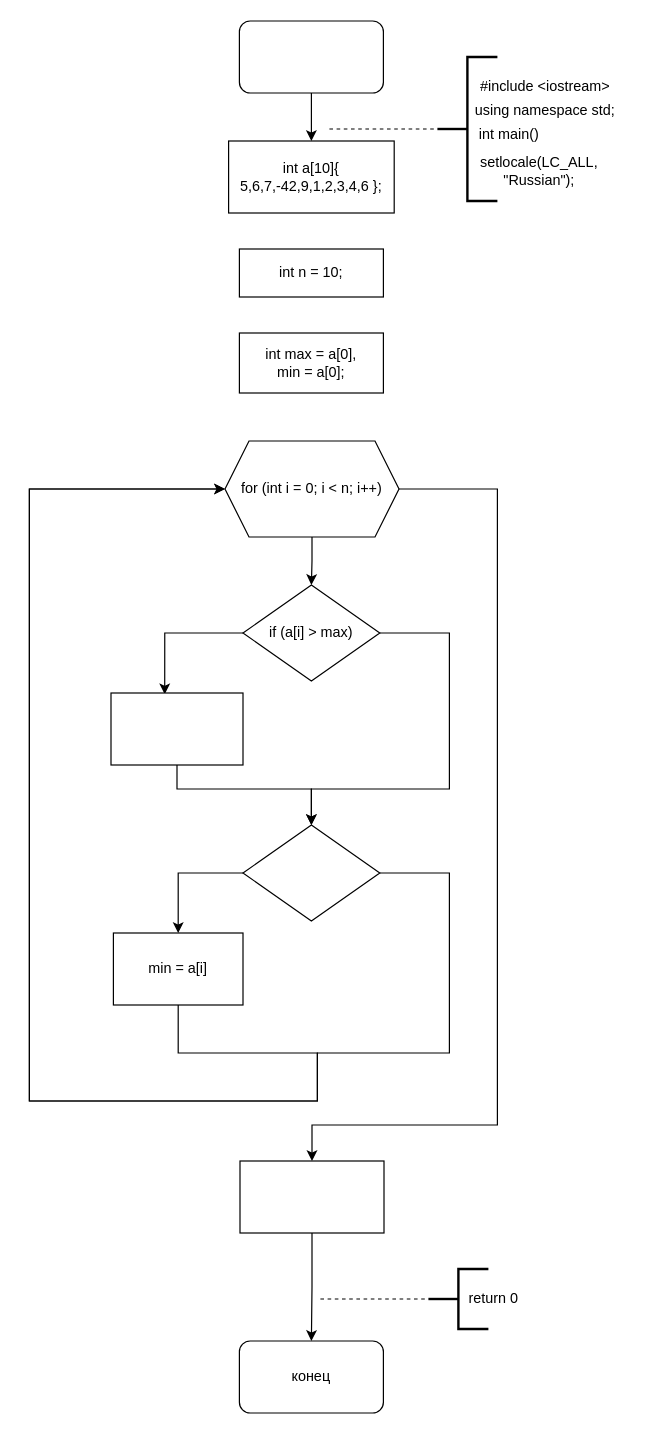
Some shapes in this 650 by 1434 pixel diagram are drawn without their labels. The centre of each missing label's shape, as x and y in pixels:
cout << max << " " << min << endl;: (311,1196)
if (a[i] < min): (311,872)
max = a[i];: (176,728)
Начало: (310,56)
